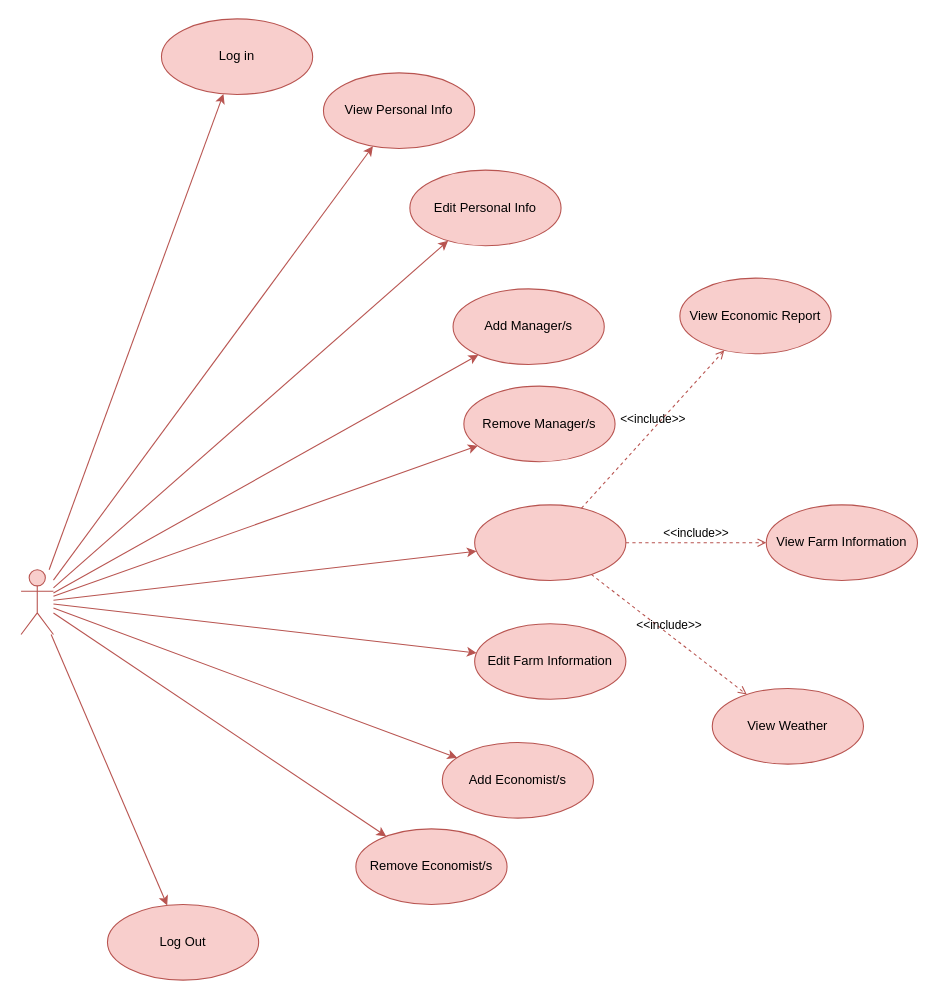
Some shapes in this 936 by 999 pixel diagram are drawn without their labels. Here are the shapes that lost their labels. From the top down, the centre of each, then its label:
At (550,542): "View Dashboard".
At (36,601): "Owner".
